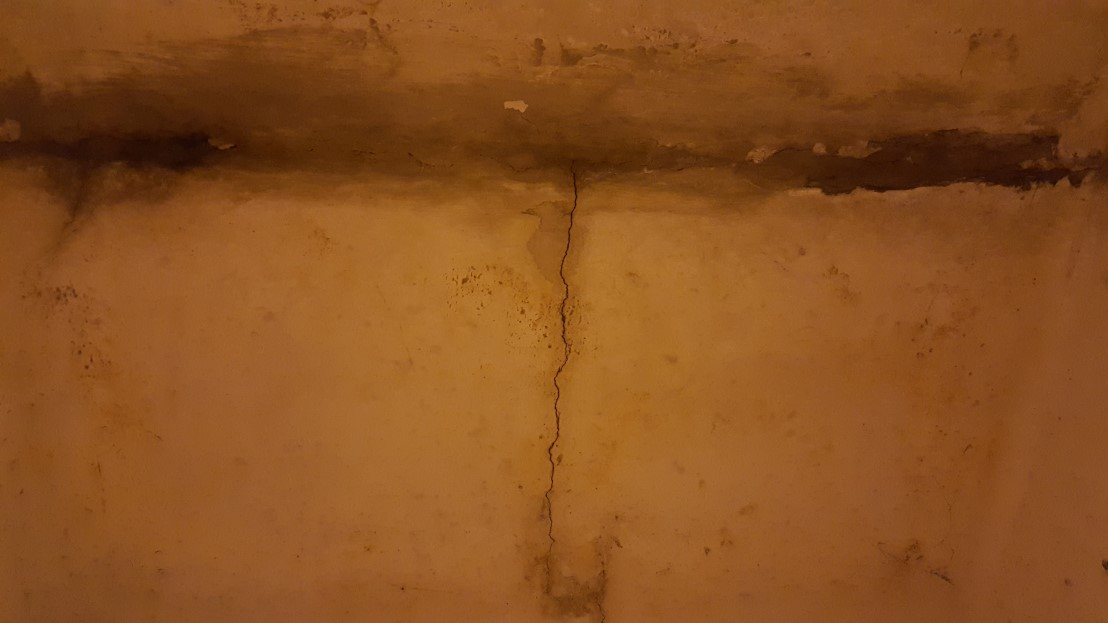Crack: (612, 120, 1108, 187), (155, 110, 562, 186), (519, 138, 581, 597), (918, 399, 1001, 594), (579, 515, 624, 623)
